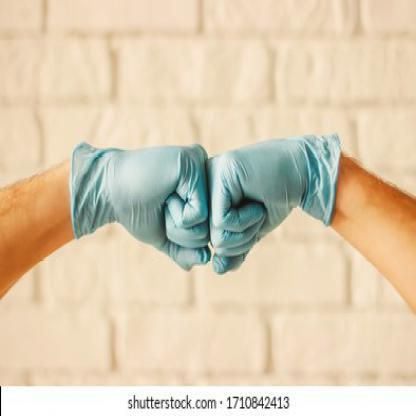with_gloves: (206, 132, 344, 275), (69, 138, 208, 272)
